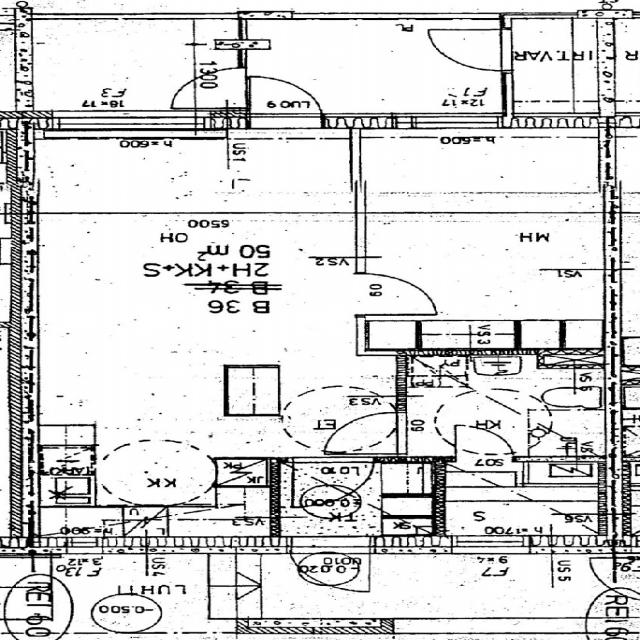door: (291, 536, 370, 596), (292, 457, 374, 508), (250, 74, 321, 129), (426, 29, 514, 71), (321, 412, 407, 453), (356, 274, 440, 314), (166, 68, 246, 108), (456, 424, 514, 462)
